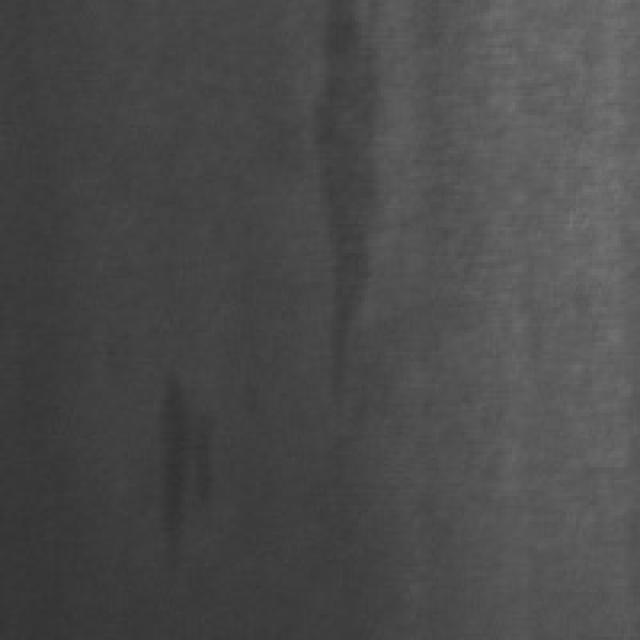inclusion: (298, 0, 403, 410), (141, 346, 237, 572)
